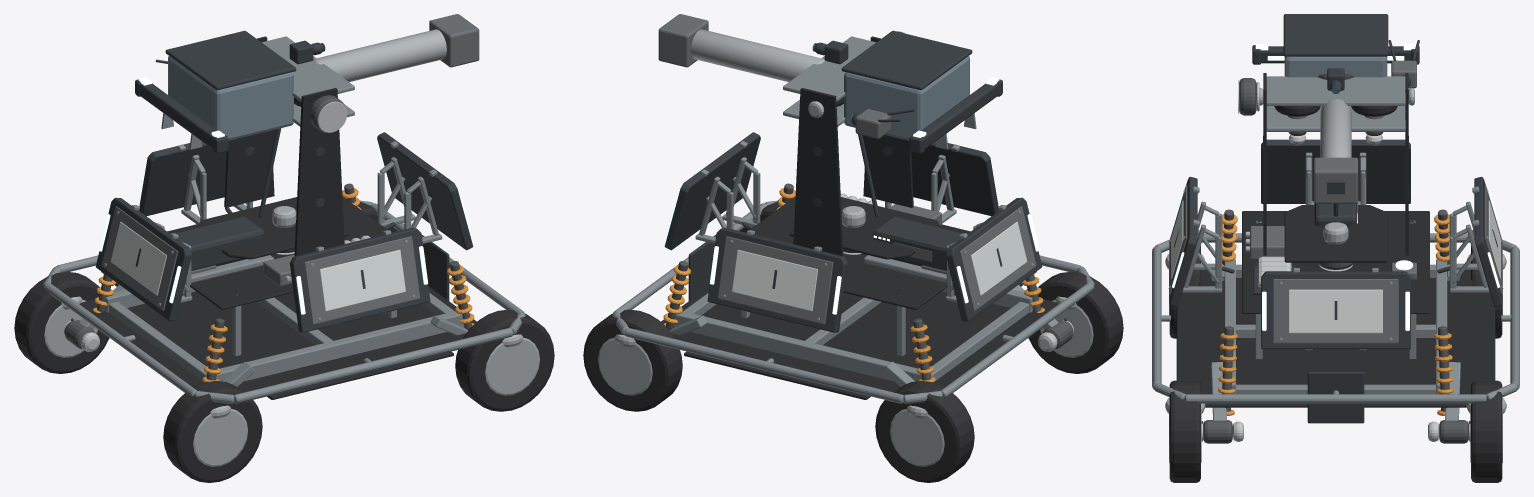
Rendered from robot-101-spec2026v4.glb.
3 renders of one model, left to right at view 1: azimuth 30°, elevation 25°; view 2: azimuth 150°, elevation 25°; view 3: azimuth 270°, elevation 25°, orthographic.
Parts seen in each view (by area): view 1: Chassis_CarbonPlate, Chassis_RobotMatteAluminum, Turret_CarbonPlate, MagazineBox, SwerveTyre, SwerveTyre.002, MagazineLid, SwerveTyre.001, ArmorModuleBody.001, ArmorModuleBody, Chassis_RobotMatteGraphite, GunPitch_MachinedAlloy (+19 smaller); view 2: Chassis_CarbonPlate, Chassis_RobotMatteAluminum, Turret_CarbonPlate, MagazineBox, SwerveTyre.001, SwerveTyre.003, MagazineLid, SwerveTyre, ArmorModuleBody.003, ArmorModuleBody, GunPitch_MachinedAlloy, ArmorHitFace.001 (+20 smaller); view 3: Chassis_CarbonPlate, Chassis_RobotMatteAluminum, ArmorModuleBody.002, Turret_CarbonPlate, GunPitch_RobotMatteAluminum, MagazineLid, ArmorSticker, ArmorHitFace, Chassis_RobotMatteGraphite, ArmorModuleBody, SwerveTyre.002, SwerveTyre.003 (+25 smaller).
Part boxes in pixels (x1=…): Chassis_CarbonPlate: x1=79, y1=196, x2=476, y2=399; Chassis_RobotMatteAluminum: x1=43, y1=200, x2=525, y2=403; Turret_CarbonPlate: x1=196, y1=36, x2=348, y2=259; MagazineBox: x1=168, y1=56, x2=293, y2=140; SwerveTyre: x1=163, y1=381, x2=262, y2=482; SwerveTyre.002: x1=455, y1=309, x2=554, y2=411; MagazineLid: x1=165, y1=30, x2=296, y2=90; SwerveTyre.001: x1=14, y1=272, x2=109, y2=373; ArmorModuleBody.001: x1=139, y1=129, x2=276, y2=216; ArmorModuleBody: x1=377, y1=132, x2=473, y2=250; Chassis_RobotMatteGraphite: x1=71, y1=217, x2=449, y2=320; GunPitch_MachinedAlloy: x1=313, y1=29, x2=446, y2=82; Chassis_CarbonPlate: x1=661, y1=196, x2=1058, y2=399; Chassis_RobotMatteAluminum: x1=612, y1=200, x2=1094, y2=403; Turret_CarbonPlate: x1=789, y1=36, x2=941, y2=259; MagazineBox: x1=844, y1=56, x2=969, y2=140; SwerveTyre.001: x1=875, y1=381, x2=974, y2=482; SwerveTyre.003: x1=583, y1=309, x2=682, y2=411; MagazineLid: x1=841, y1=30, x2=972, y2=90; SwerveTyre: x1=1028, y1=272, x2=1123, y2=373; ArmorModuleBody.003: x1=862, y1=135, x2=998, y2=216; ArmorModuleBody: x1=664, y1=132, x2=760, y2=250; GunPitch_MachinedAlloy: x1=691, y1=29, x2=824, y2=82; ArmorHitFace.001: x1=718, y1=236, x2=833, y2=324; Chassis_CarbonPlate: x1=1176, y1=211, x2=1495, y2=407; Chassis_RobotMatteAluminum: x1=1152, y1=201, x2=1519, y2=420; ArmorModuleBody.002: x1=1261, y1=139, x2=1410, y2=203; Turret_CarbonPlate: x1=1263, y1=73, x2=1408, y2=262; GunPitch_RobotMatteAluminum: x1=1266, y1=76, x2=1405, y2=131; MagazineLid: x1=1283, y1=14, x2=1388, y2=56; ArmorSticker: x1=1289, y1=289, x2=1382, y2=333; ArmorHitFace: x1=1273, y1=279, x2=1398, y2=343; Chassis_RobotMatteGraphite: x1=1201, y1=203, x2=1470, y2=423; ArmorModuleBody: x1=1261, y1=271, x2=1410, y2=349; SwerveTyre.002: x1=1169, y1=380, x2=1200, y2=482; SwerveTyre.003: x1=1471, y1=380, x2=1502, y2=482.
Size of the model in its own units: 0.78 by 0.672 by 0.6465.
